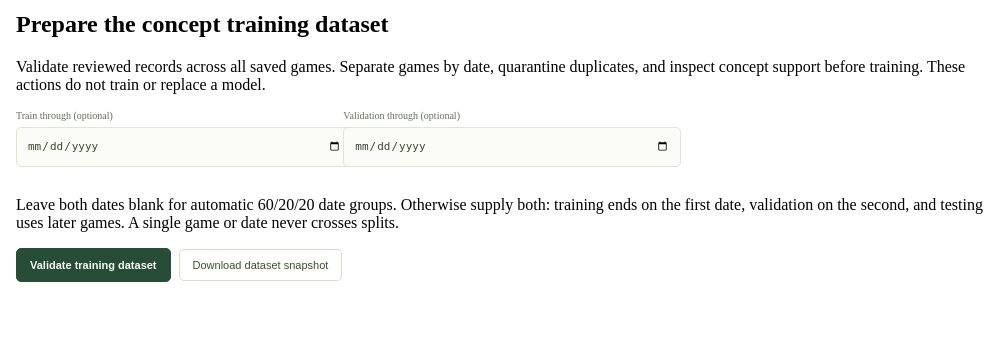
Test: passes explicit boundaries and shows validation failures
The width and height of the screenshot is (1003, 354).
Type "2024-09-01" into the date field labelled "Train through (optional)" at (185, 147), box [16, 127, 353, 167]
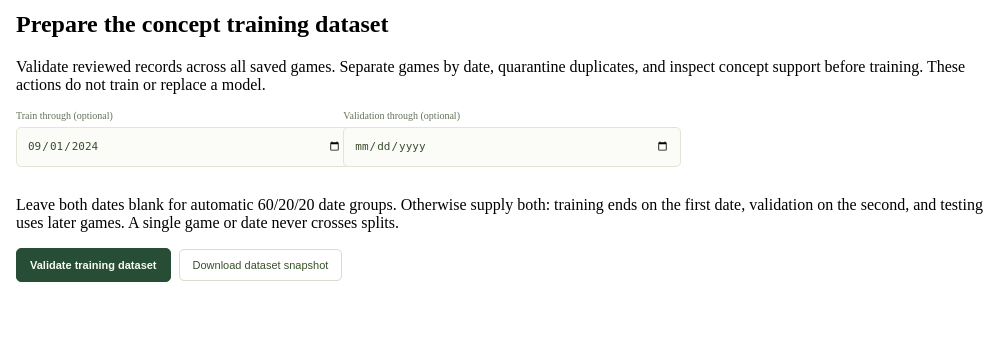
Click the button "Validate training dataset" at (93, 265), box [16, 248, 170, 282]
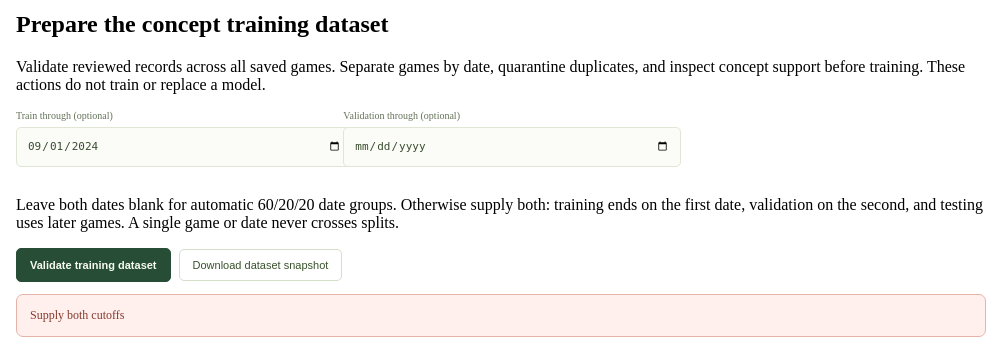
Now the message reads "Supply both cutoffs", box [30, 308, 124, 322]
